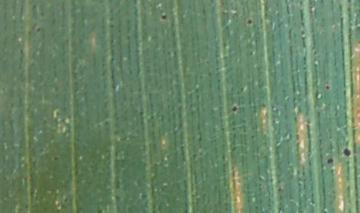tarspot: (342, 147, 352, 157), (325, 156, 334, 165), (230, 104, 238, 114), (160, 12, 167, 22), (323, 83, 331, 90), (63, 196, 71, 203), (246, 17, 252, 25), (35, 26, 41, 34), (52, 155, 60, 161), (31, 3, 37, 9)
